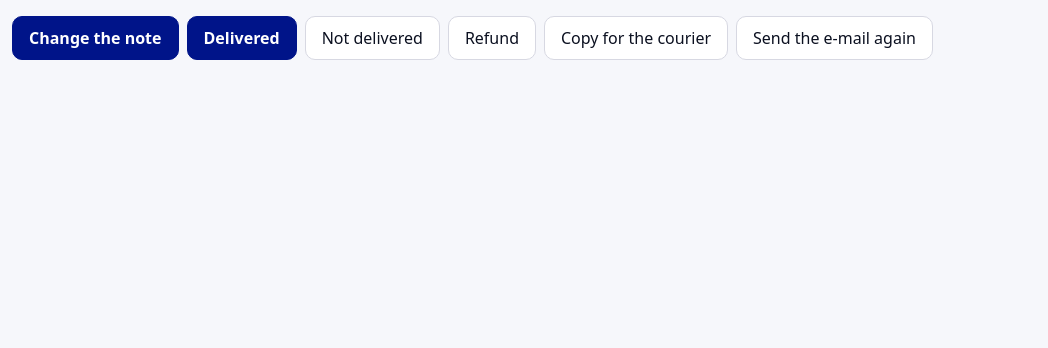
Test: a step is one call and refreshes the card › changing the number of a handed-over order sends it even when it is emptied
Click the button "Change the note".
click(95, 38)  # box [12,16,178,60]
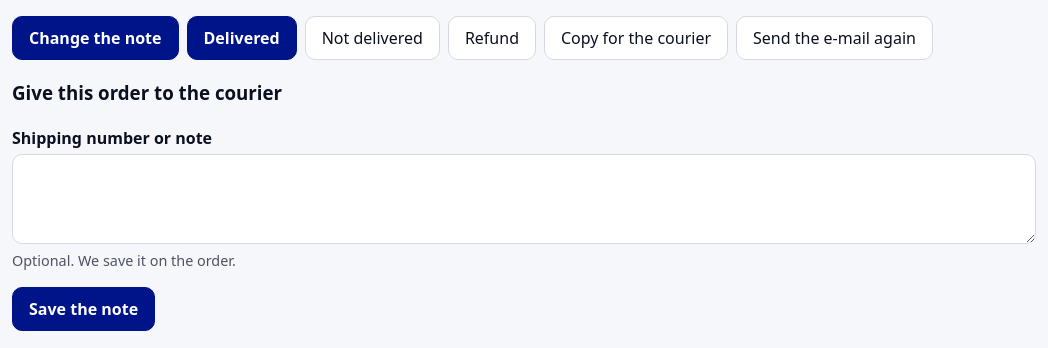
Click the button "Save the note".
click(84, 309)  # box [12,287,155,331]
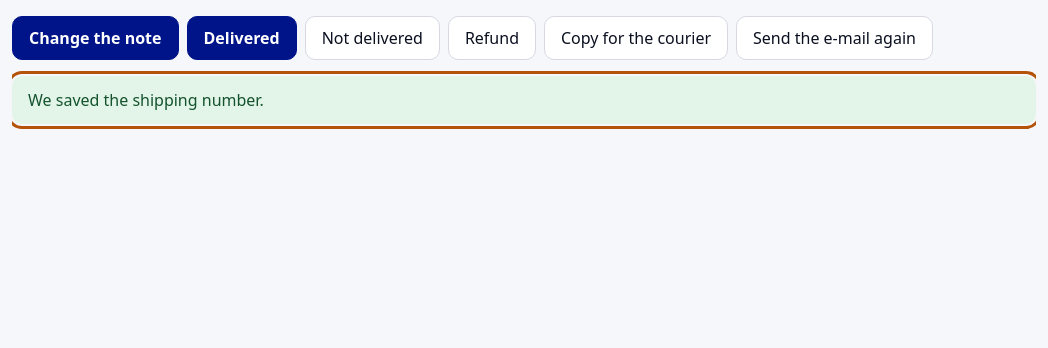
Result: the message "We saved the shipping number." is shown at [12,76,1036,124]
